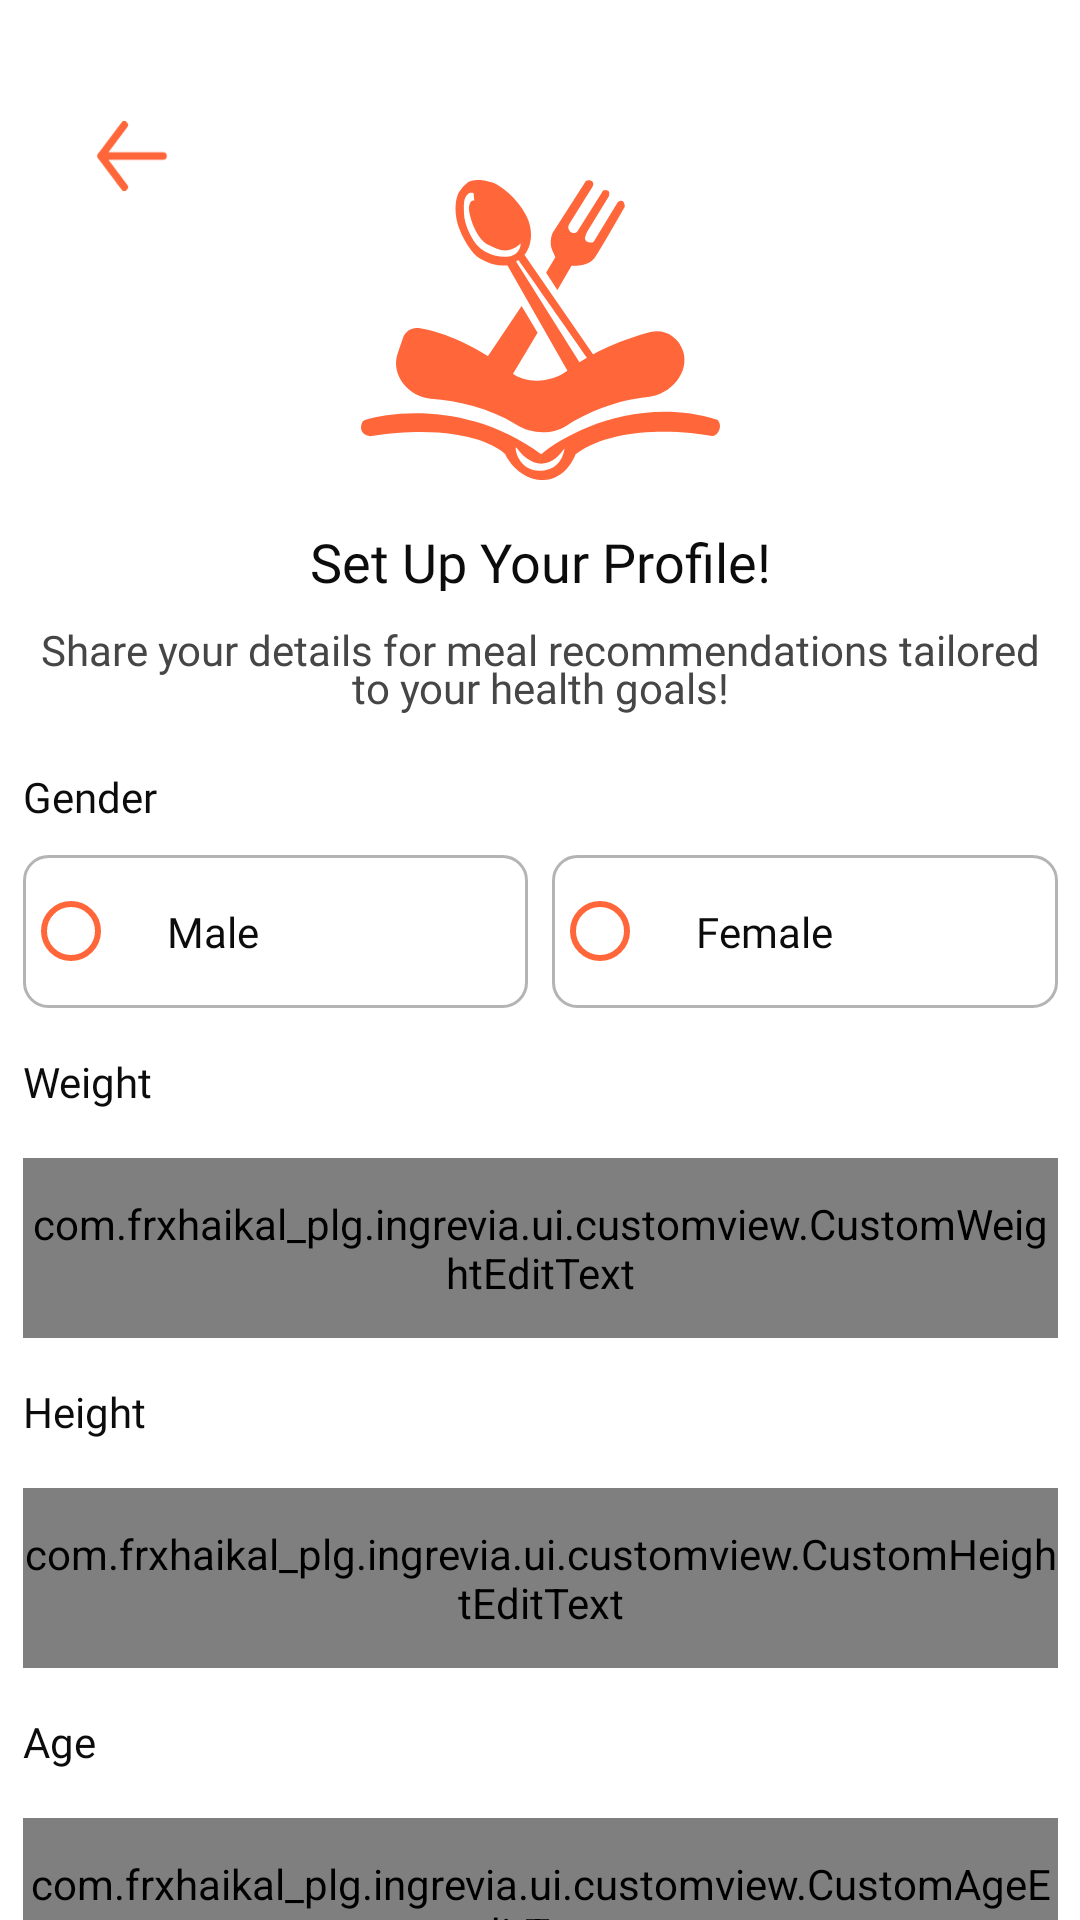

Screen size 1080*1920. Icon name, then its center in pixels as [x,y]:
Back Arrow: [132,156]
